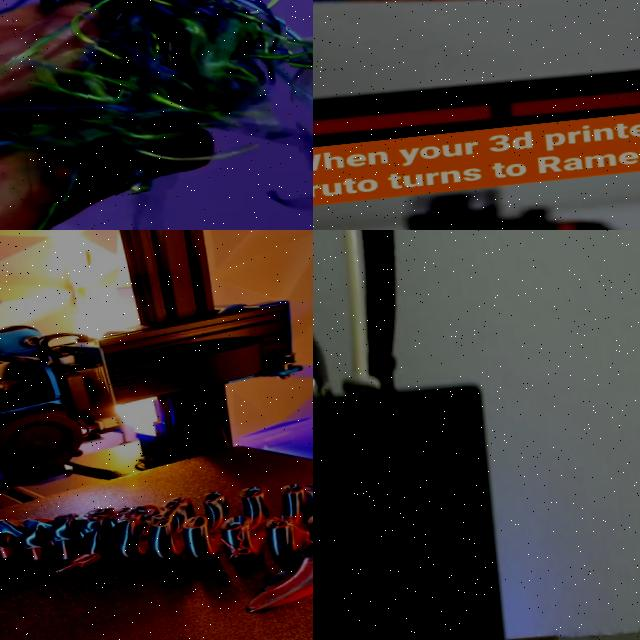spaghetti: (0, 0, 301, 205)
